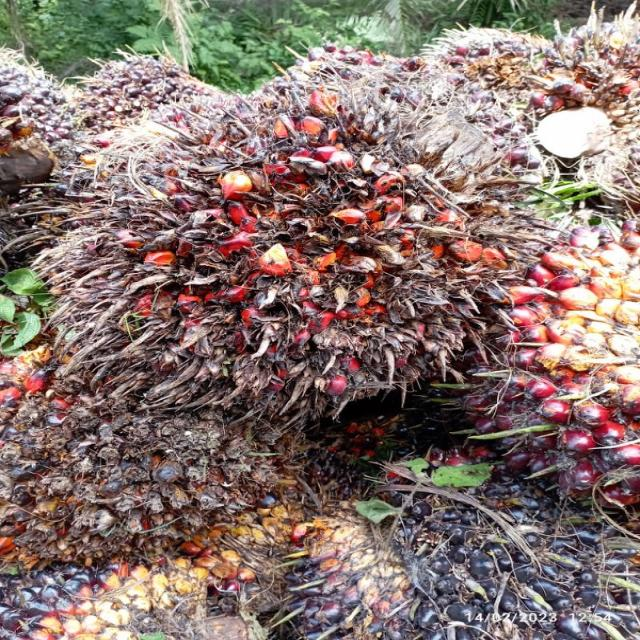fraksi 00: (284, 429, 627, 640)
fraksi 4: (88, 53, 535, 444)
